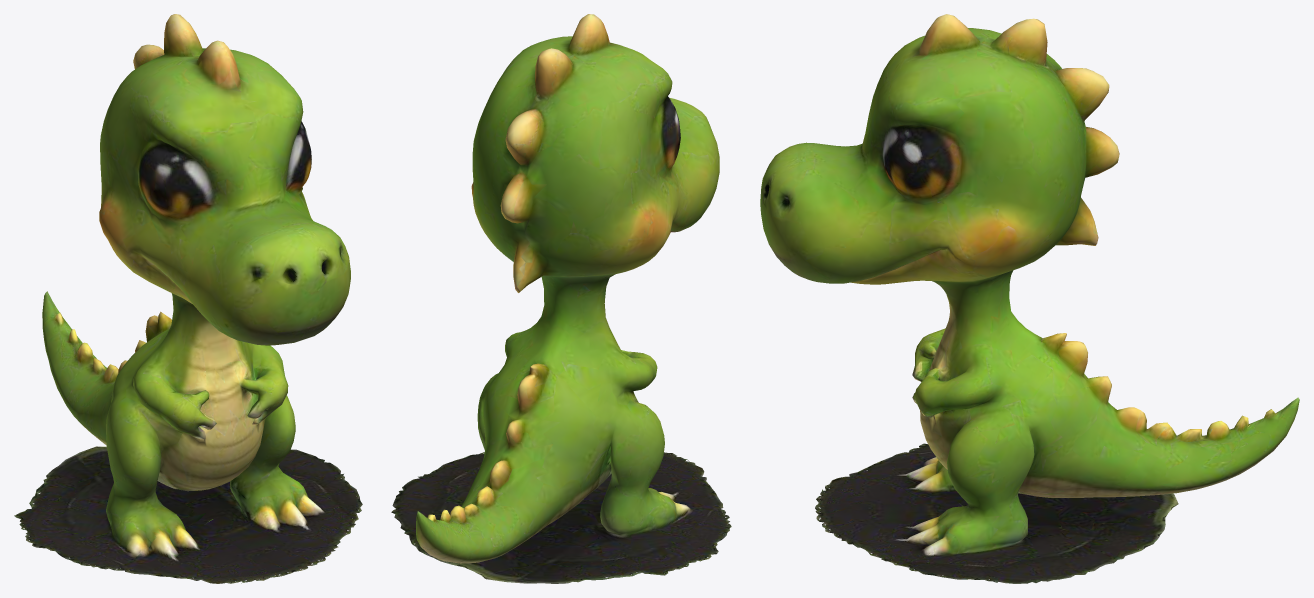
3 renders of one model, left to right at view 1: azimuth 30°, elevation 25°; view 2: azimuth 150°, elevation 25°; view 3: azimuth 270°, elevation 25°, orthographic. The views are drawn at different scales.
Bounding box in the file's own units: 1.2 × 1.8 × 1.78.
Materials: 1 (1 with a texture image).
